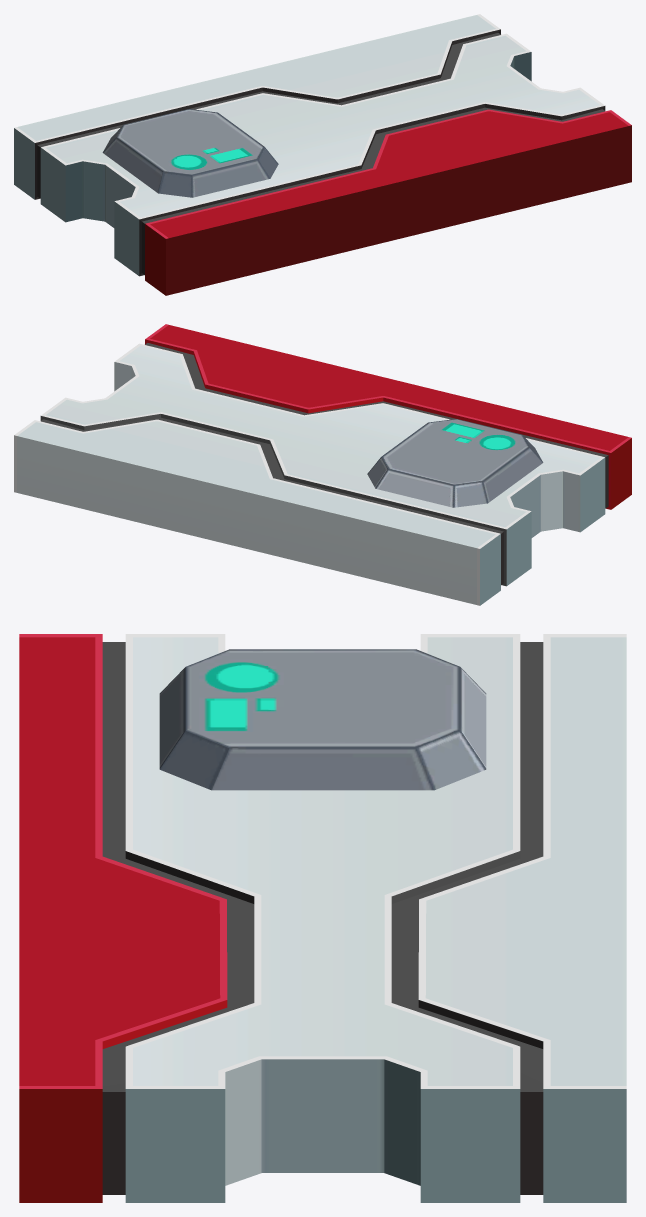
Rendered from SpaceWall.fbx.
3 renders of one model, top to bottom at view 1: azimuth 30°, elevation 25°; view 2: azimuth 150°, elevation 25°; view 3: azimuth 270°, elevation 25°, orthographic. The views are drawn at different scales.
Visible parts, largest first — view 1: SpaceWall1:SpaceWall:SpaceWall; view 2: SpaceWall1:SpaceWall:SpaceWall; view 3: SpaceWall1:SpaceWall:SpaceWall.
Part boxes in pixels (box(x1,y1,x2,y2)): SpaceWall1:SpaceWall:SpaceWall: box(14, 14, 631, 295); SpaceWall1:SpaceWall:SpaceWall: box(14, 324, 631, 605); SpaceWall1:SpaceWall:SpaceWall: box(19, 634, 626, 1202).
Size of the model in its own units: 300 by 55.68 by 169.
